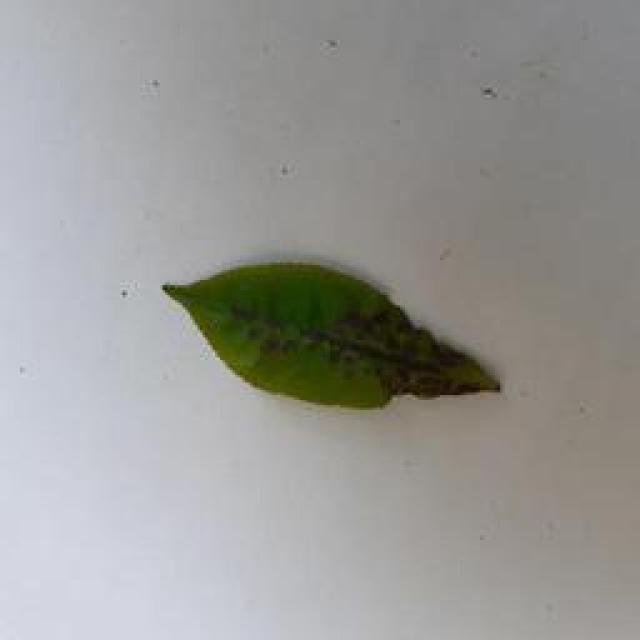Helopeltis: (155, 247, 512, 418)
